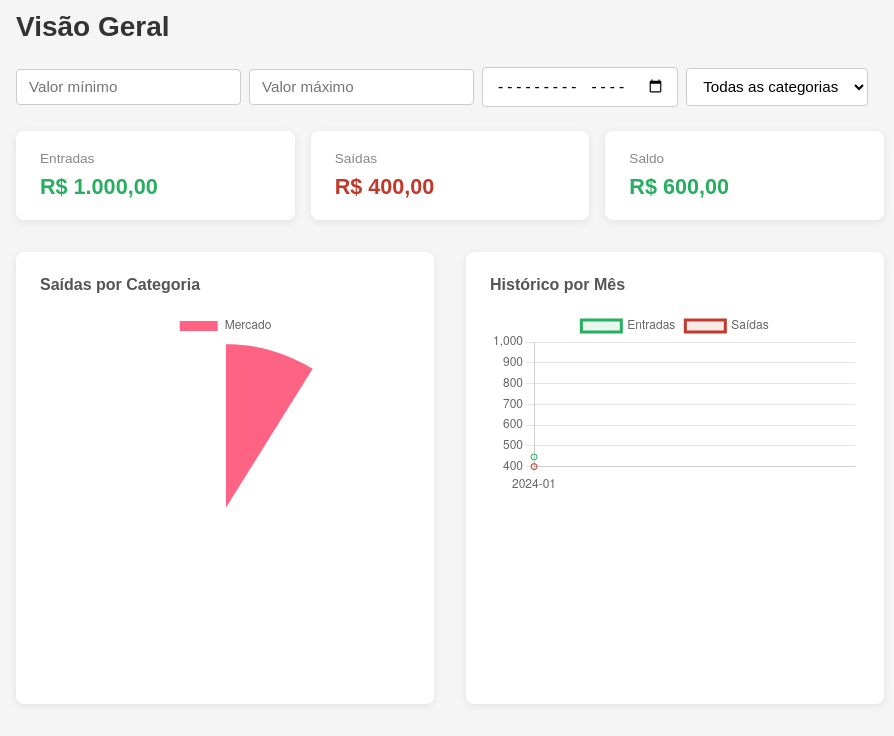
Test: VisaoGeral (integração) › aplica filtro por valor mínimo
Check: the text "R$ 1.000,00" is shown, box [40,174,158,199]
In the number field with placeholder "Valor mínimo": (128, 87) [16,68,241,105], type "500"
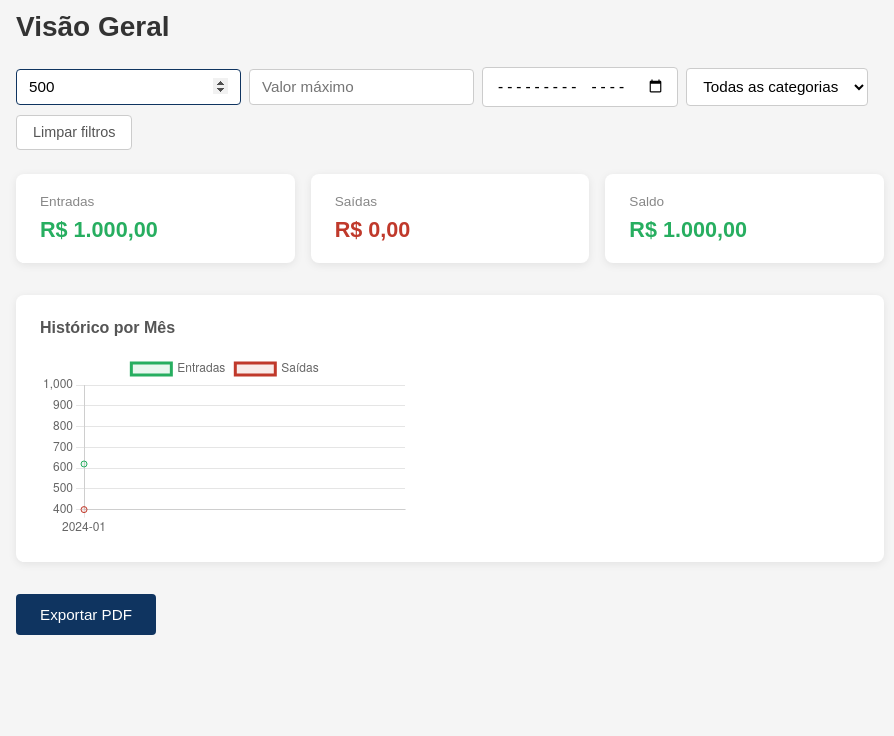
Check: the text "R$ 1.000,00" below "Entradas" is shown, box [40,217,158,242]
Check: the button "Limpar filtros" is shown, box [16,115,132,150]
